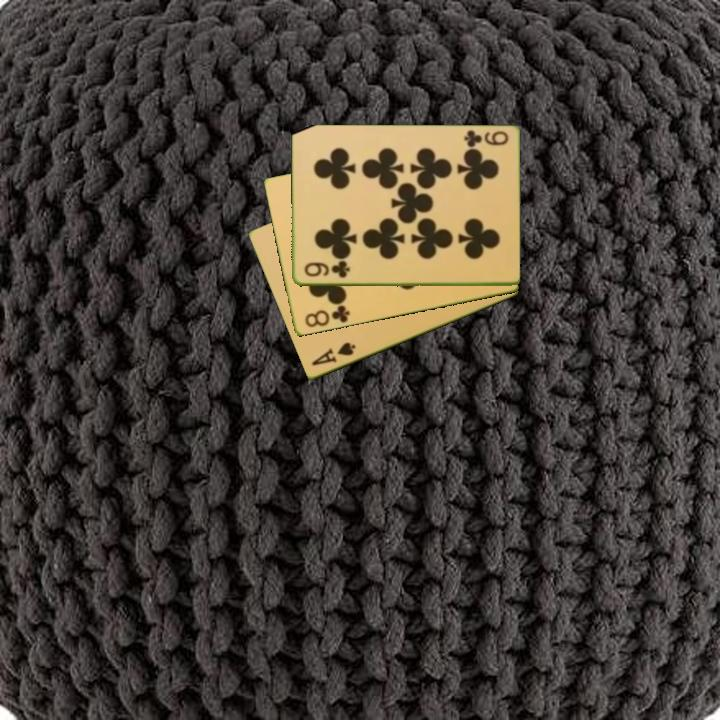8c: (301, 302, 353, 331)
9c: (460, 127, 511, 151), (301, 260, 352, 281)
As: (308, 339, 358, 369)
